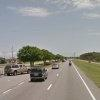Car: (27, 64, 51, 85)
